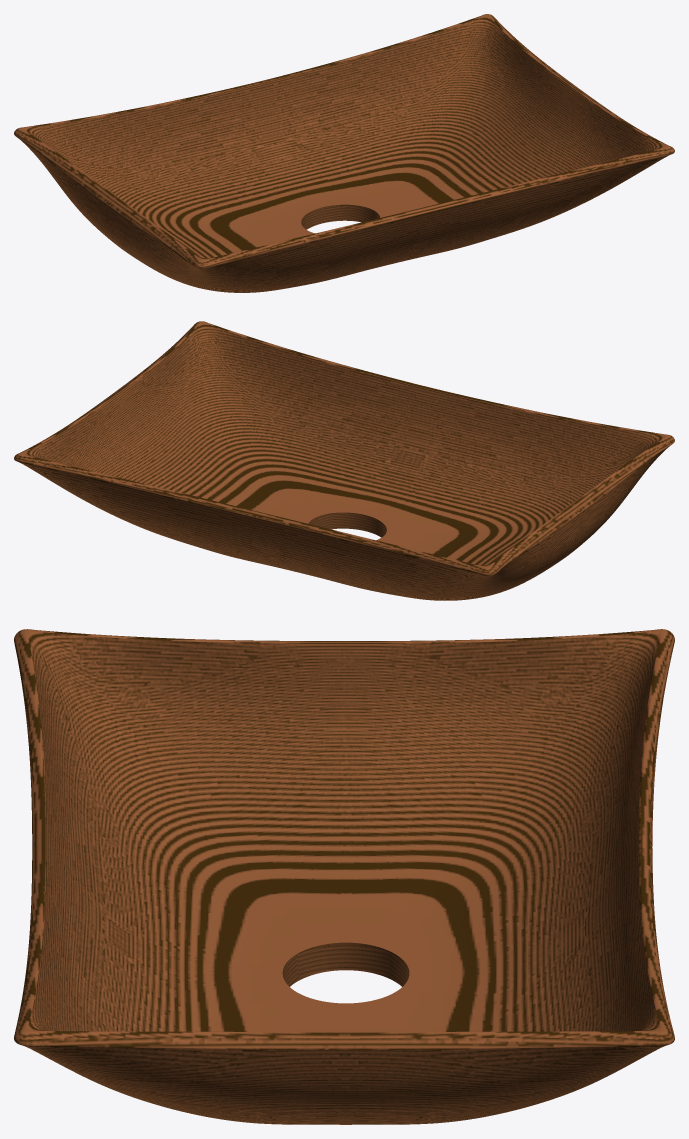
Rendered from Раковина 2_4.glb.
The picture shows the model from 3 angles, top to bottom: view 1: azimuth 30°, elevation 25°; view 2: azimuth 150°, elevation 25°; view 3: azimuth 270°, elevation 25°; orthographic projection. The views are drawn at different scales.
Visible parts, largest first — view 1: Заготовка5; view 2: Заготовка5; view 3: Заготовка5.
Boxes of the visible parts, <box> form: Заготовка5: <box>14,14,674,292</box>; Заготовка5: <box>14,321,674,600</box>; Заготовка5: <box>14,629,674,1124</box>.
Size of the model in its own units: 625 by 122 by 423.
1 material, 1 textured.
